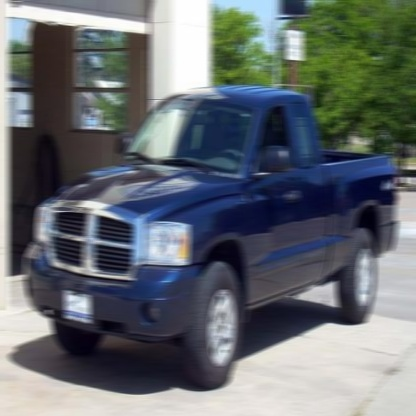Vehicle: (22, 82, 400, 392)
